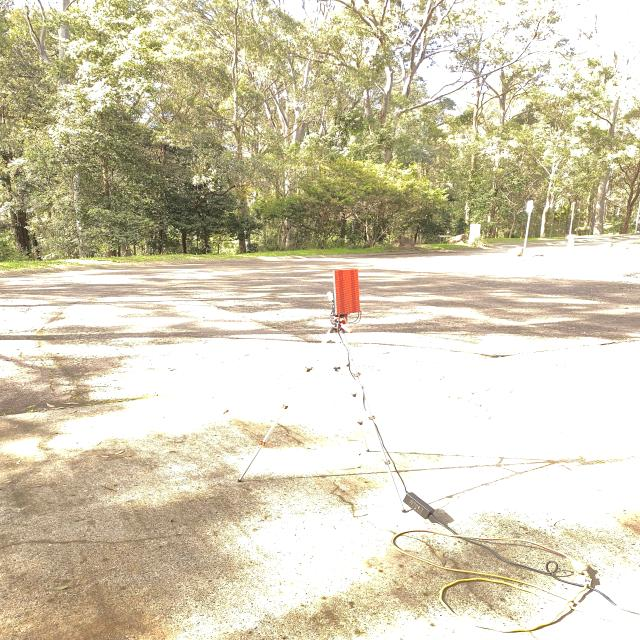matrix: (327, 264, 372, 323)
